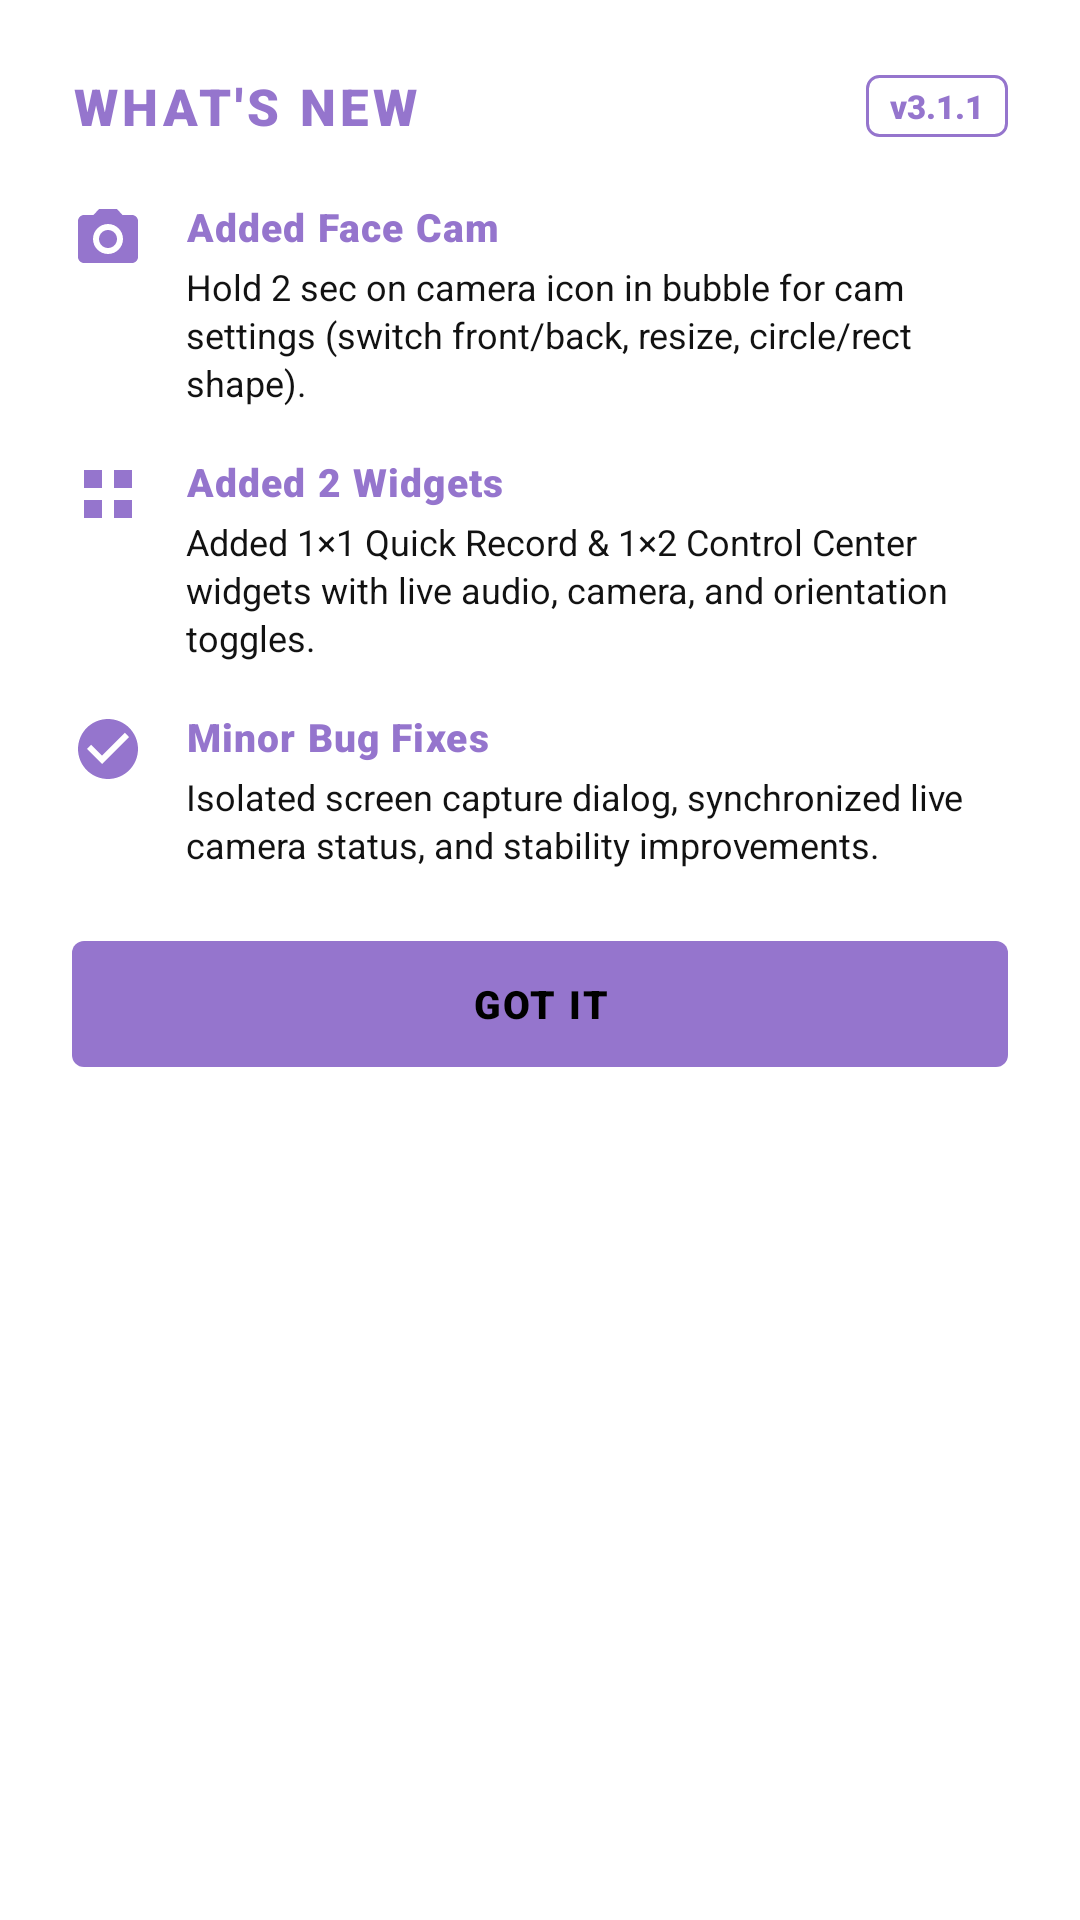

Screen size 1080*1920. Icon name, then its center in pixels as point (x, y):
whats check: point (108, 749)
widget app: point (108, 494)
widget cam: point (108, 236)
